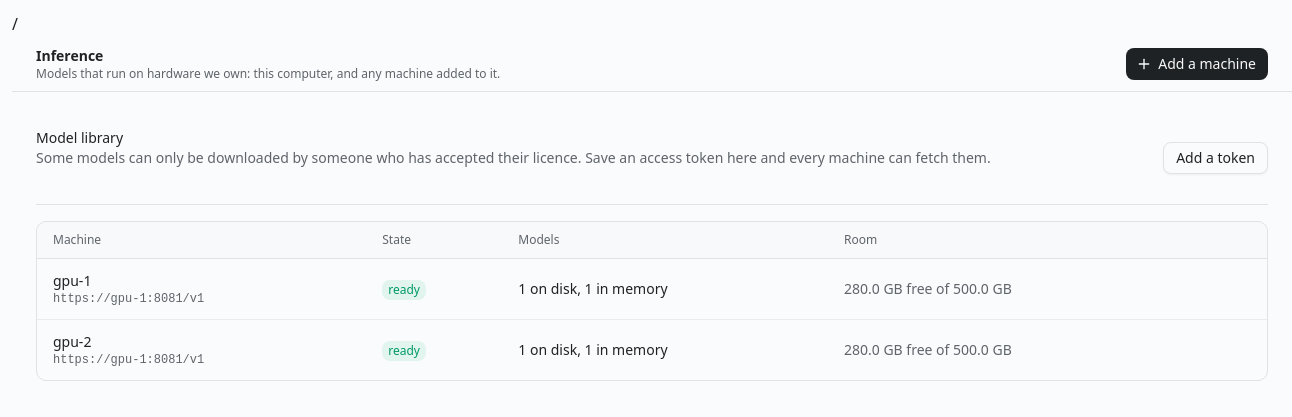
Scenario: machines › keeps the machine in the url, so a refresh stays on it
Click the text "gpu-1".
click(72, 280)  # box [53, 271, 91, 290]
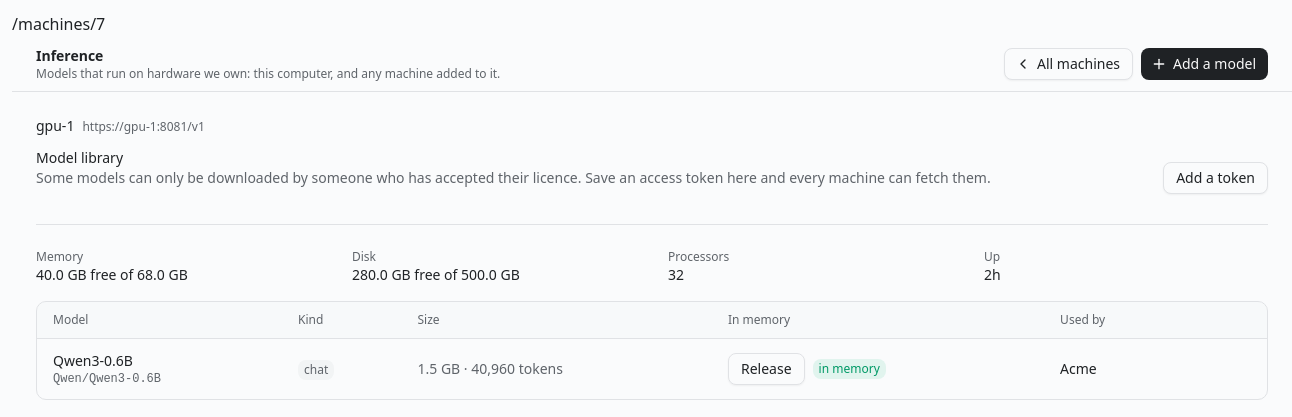
Expected: the text "Qwen3-0.6B" is shown, [53, 351, 133, 370]
Expected: the text with test id "path" reads "/machines/7", [12, 13, 105, 35]
// And "All machines" goes back to the list rather than leaving a stale path.
Click the button "All machines".
click(1068, 64)  # box [1004, 48, 1133, 80]
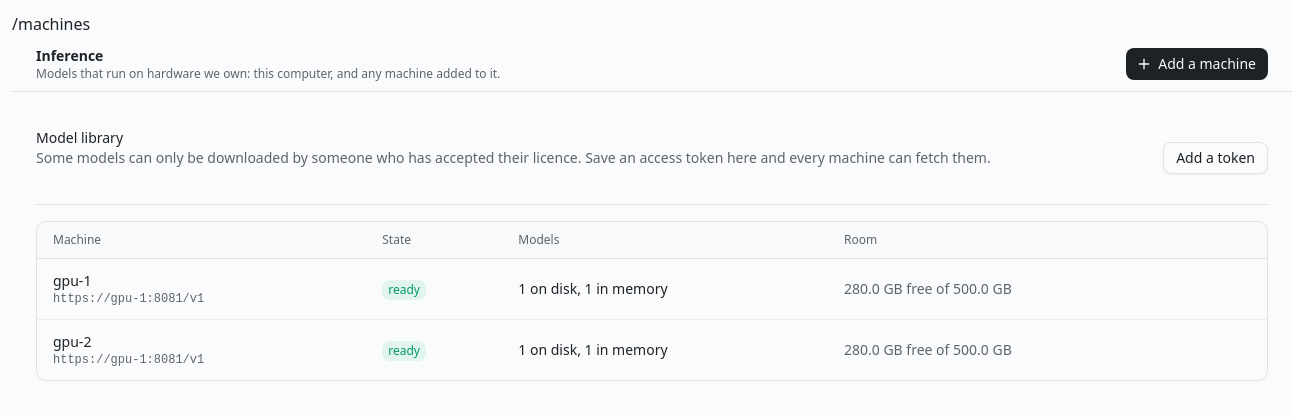
Expected: the text with test id "path" reads "/machines", [12, 13, 90, 35]
Expected: the column heading "Room" is shown, [828, 222, 1187, 258]
